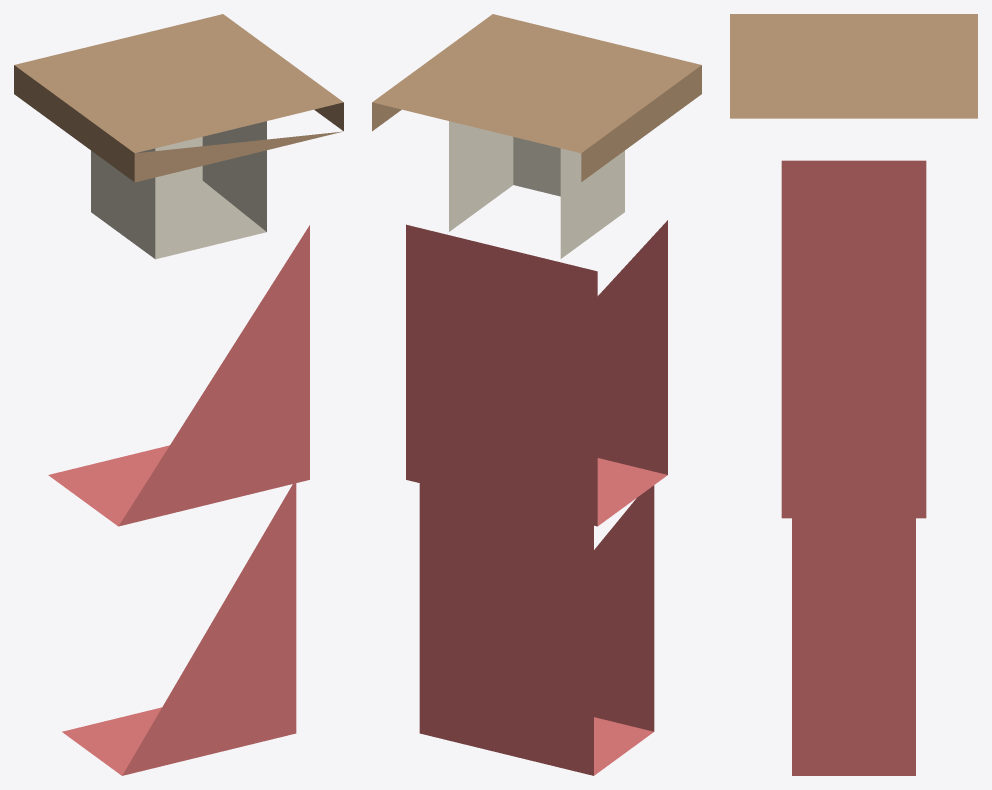
Rendered from ASTX_NPC_GUARD.glb.
The picture shows the model from 3 angles, left to right: view 1: azimuth 30°, elevation 25°; view 2: azimuth 150°, elevation 25°; view 3: azimuth 270°, elevation 25°; orthographic projection. The views are drawn at different scales.
Parts seen in each view (by area): view 1: ASTX_NPC_GUARD_hat, ASTX_NPC_GUARD_torso, ASTX_NPC_GUARD_legs, ASTX_NPC_GUARD_head; view 2: ASTX_NPC_GUARD_torso, ASTX_NPC_GUARD_legs, ASTX_NPC_GUARD_hat, ASTX_NPC_GUARD_head; view 3: ASTX_NPC_GUARD_torso, ASTX_NPC_GUARD_legs, ASTX_NPC_GUARD_hat.
Part boxes in pixels (x1,y1,x2,y2): ASTX_NPC_GUARD_hat: (14, 14, 343, 182); ASTX_NPC_GUARD_torso: (48, 225, 309, 526); ASTX_NPC_GUARD_legs: (62, 483, 296, 775); ASTX_NPC_GUARD_head: (91, 121, 266, 259); ASTX_NPC_GUARD_torso: (406, 220, 667, 526); ASTX_NPC_GUARD_legs: (419, 483, 654, 775); ASTX_NPC_GUARD_hat: (372, 14, 701, 181); ASTX_NPC_GUARD_head: (449, 121, 624, 258); ASTX_NPC_GUARD_torso: (781, 160, 926, 518); ASTX_NPC_GUARD_legs: (792, 518, 915, 775); ASTX_NPC_GUARD_hat: (730, 14, 977, 118).
Size of the model in its own units: 0.6 by 1.78 by 0.6.
